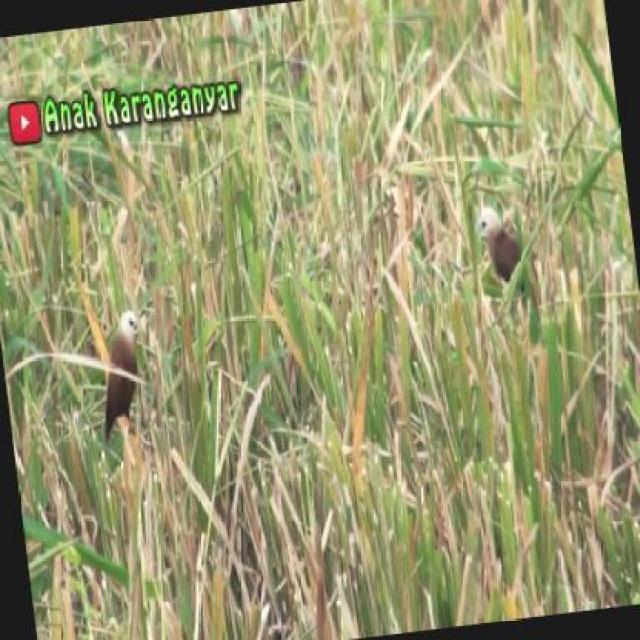Bird: (95, 308, 152, 441), (473, 205, 528, 290)
